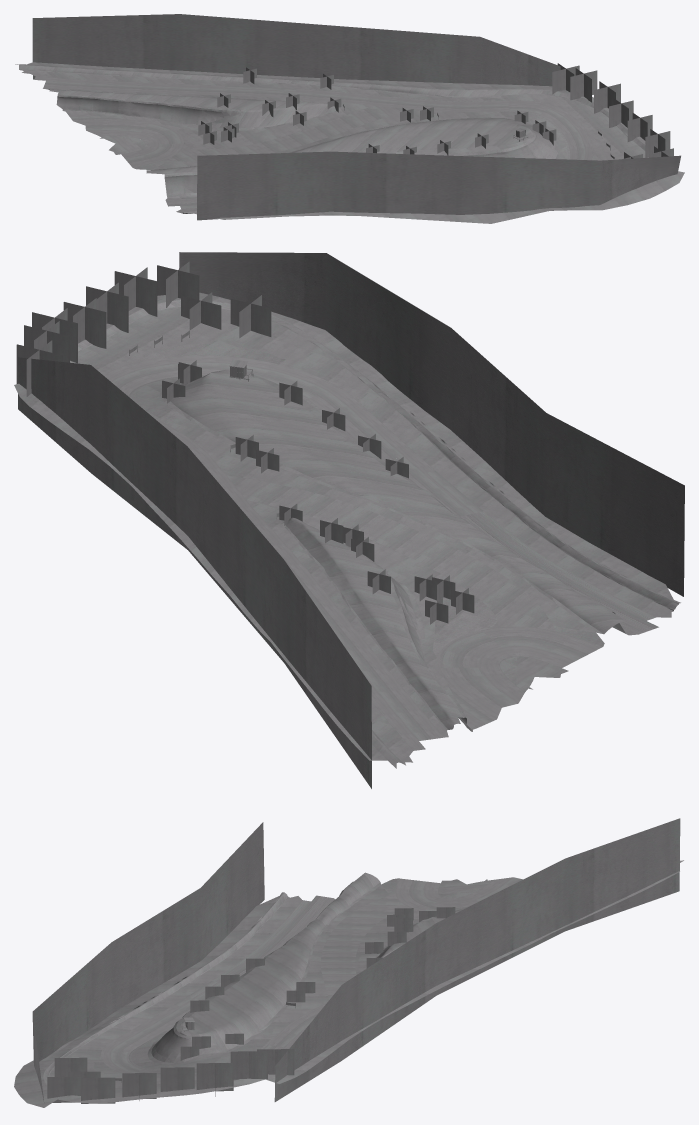
File: ebisuw4.glb
3 views of the same model, one above another, from view 1: azimuth 30°, elevation 25°; view 2: azimuth 150°, elevation 25°; view 3: azimuth 270°, elevation 25° (orthographic). The views are drawn at different scales.
Visible parts, largest first — view 1: ebisuw4; view 2: ebisuw4; view 3: ebisuw4.
Boxes of the visible parts, left/top/right/bottom form: ebisuw4: left=15, top=14, right=684, bottom=223; ebisuw4: left=14, top=252, right=684, bottom=788; ebisuw4: left=14, top=818, right=683, bottom=1107.
Bounding box in the file's own units: 247 × 50.81 × 292.
1 material, 1 textured.
